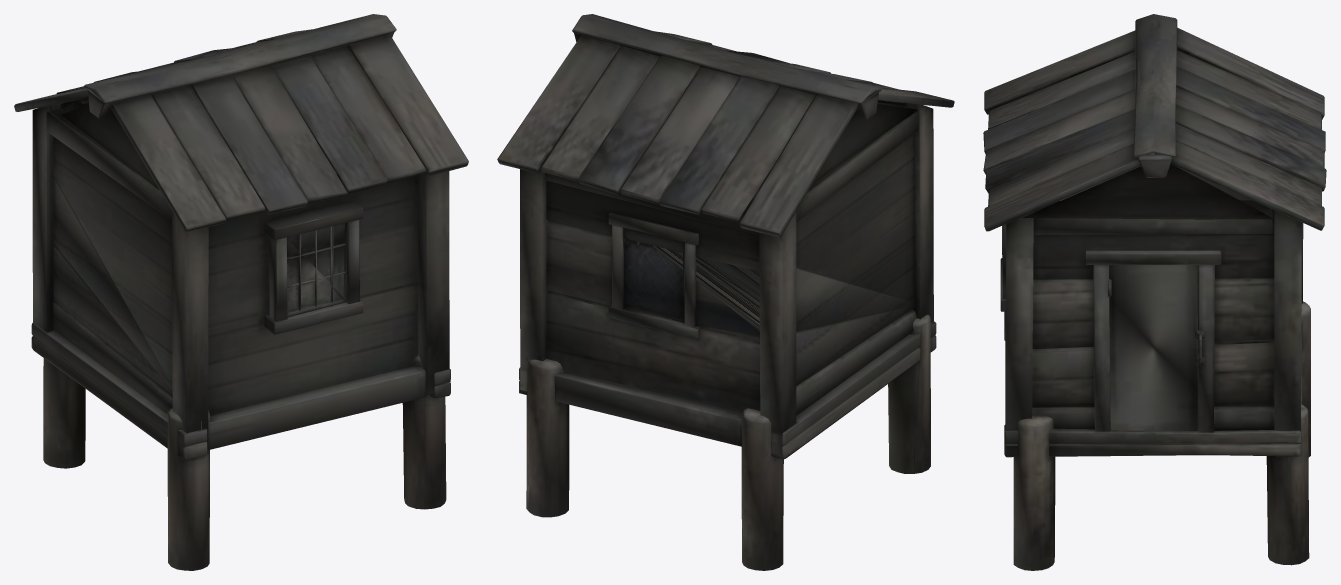
File: water_hut.glb
3 views of the same model, side by side, from view 1: azimuth 30°, elevation 25°; view 2: azimuth 150°, elevation 25°; view 3: azimuth 270°, elevation 25° (orthographic). The views are drawn at different scales.
Visible parts, largest first — view 1: model; view 2: model; view 3: model.
Part boxes in pixels (<box>): model: <box>14,14,468,570</box>; model: <box>497,14,954,570</box>; model: <box>983,14,1326,570</box>.
Bounding box in the file's own units: 0.7065 × 1 × 0.7339.
1 material, 1 textured.
